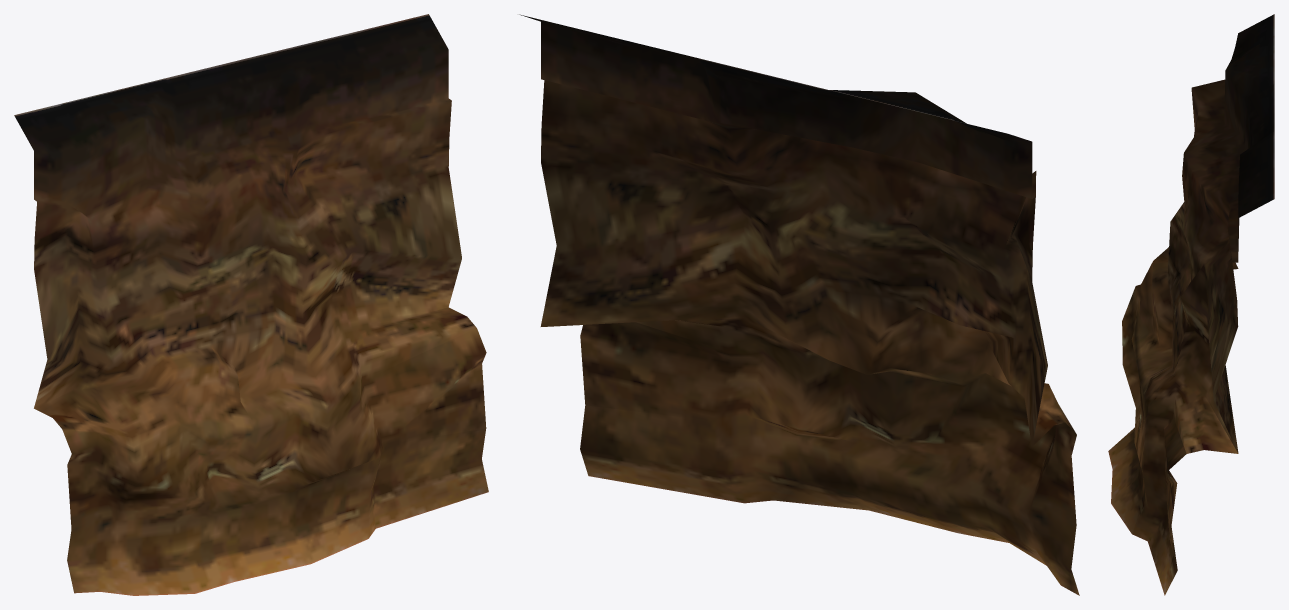
Rendered from tunnelWallB.fbx.
3 renders of one model, left to right at view 1: azimuth 30°, elevation 25°; view 2: azimuth 150°, elevation 25°; view 3: azimuth 270°, elevation 25°, orthographic. The views are drawn at different scales.
Visible parts, largest first — view 1: tunnelWallB; view 2: tunnelWallB; view 3: tunnelWallB.
Part boxes in pixels (x1,y1,x2,y2): tunnelWallB: (14,14,488,595); tunnelWallB: (519,14,1079,595); tunnelWallB: (1108,14,1274,595).
Size of the model in its own units: 300 by 300 by 114.
